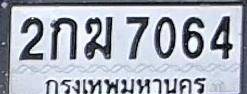0: (154, 16, 176, 59)
2: (19, 16, 43, 60)
4: (210, 15, 232, 59)
6: (182, 16, 204, 59)
7: (126, 15, 149, 60)
A01: (50, 17, 77, 60)
A06: (84, 15, 113, 60)
BKK: (40, 73, 211, 94)
